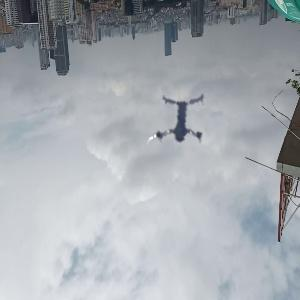drone: (143, 90, 223, 170)
